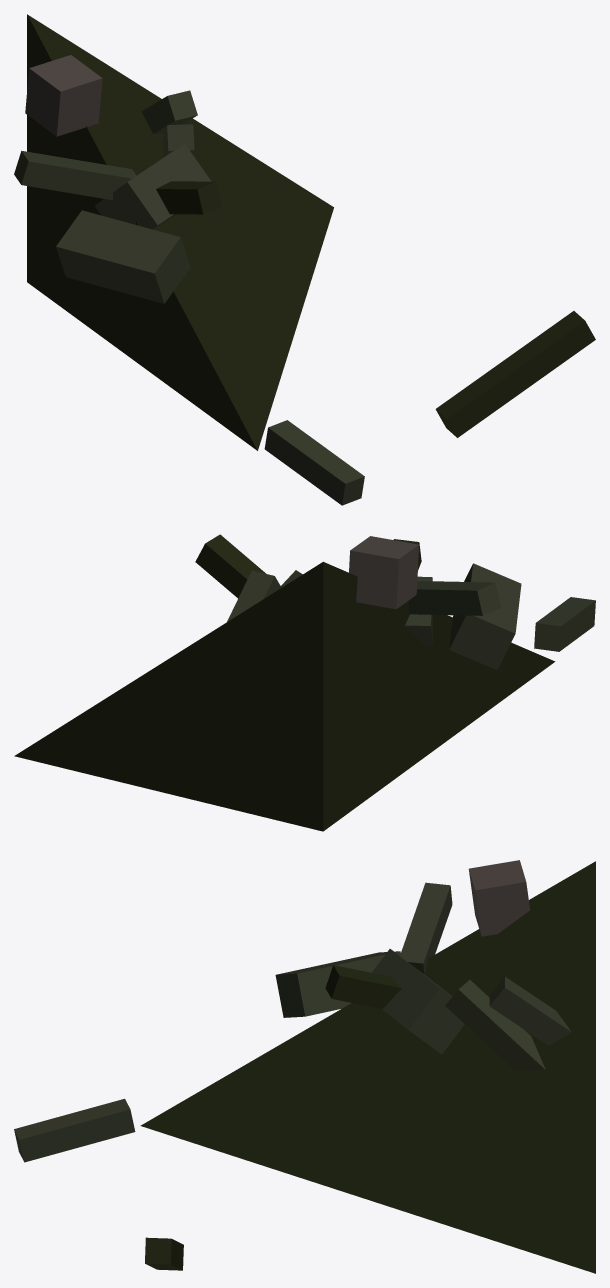
The model's file is SM_PilaZombi_RemateDer_Altura2_s0_LOD1.fbx.
3 views of the same model, one above another, from view 1: azimuth 30°, elevation 25°; view 2: azimuth 150°, elevation 25°; view 3: azimuth 270°, elevation 25° (orthographic).
Visible parts, largest first — view 1: SM_pila_zombis_v1_LOD1; view 2: SM_pila_zombis_v1_LOD1; view 3: SM_pila_zombis_v1_LOD1.
Boxes of the visible parts, x1,y1,x2,y2 form: SM_pila_zombis_v1_LOD1: (14,14,595,505); SM_pila_zombis_v1_LOD1: (14,534,595,831); SM_pila_zombis_v1_LOD1: (14,860,595,1273).
Bounding box in the file's own units: 2.29 × 1.57 × 2.69.
